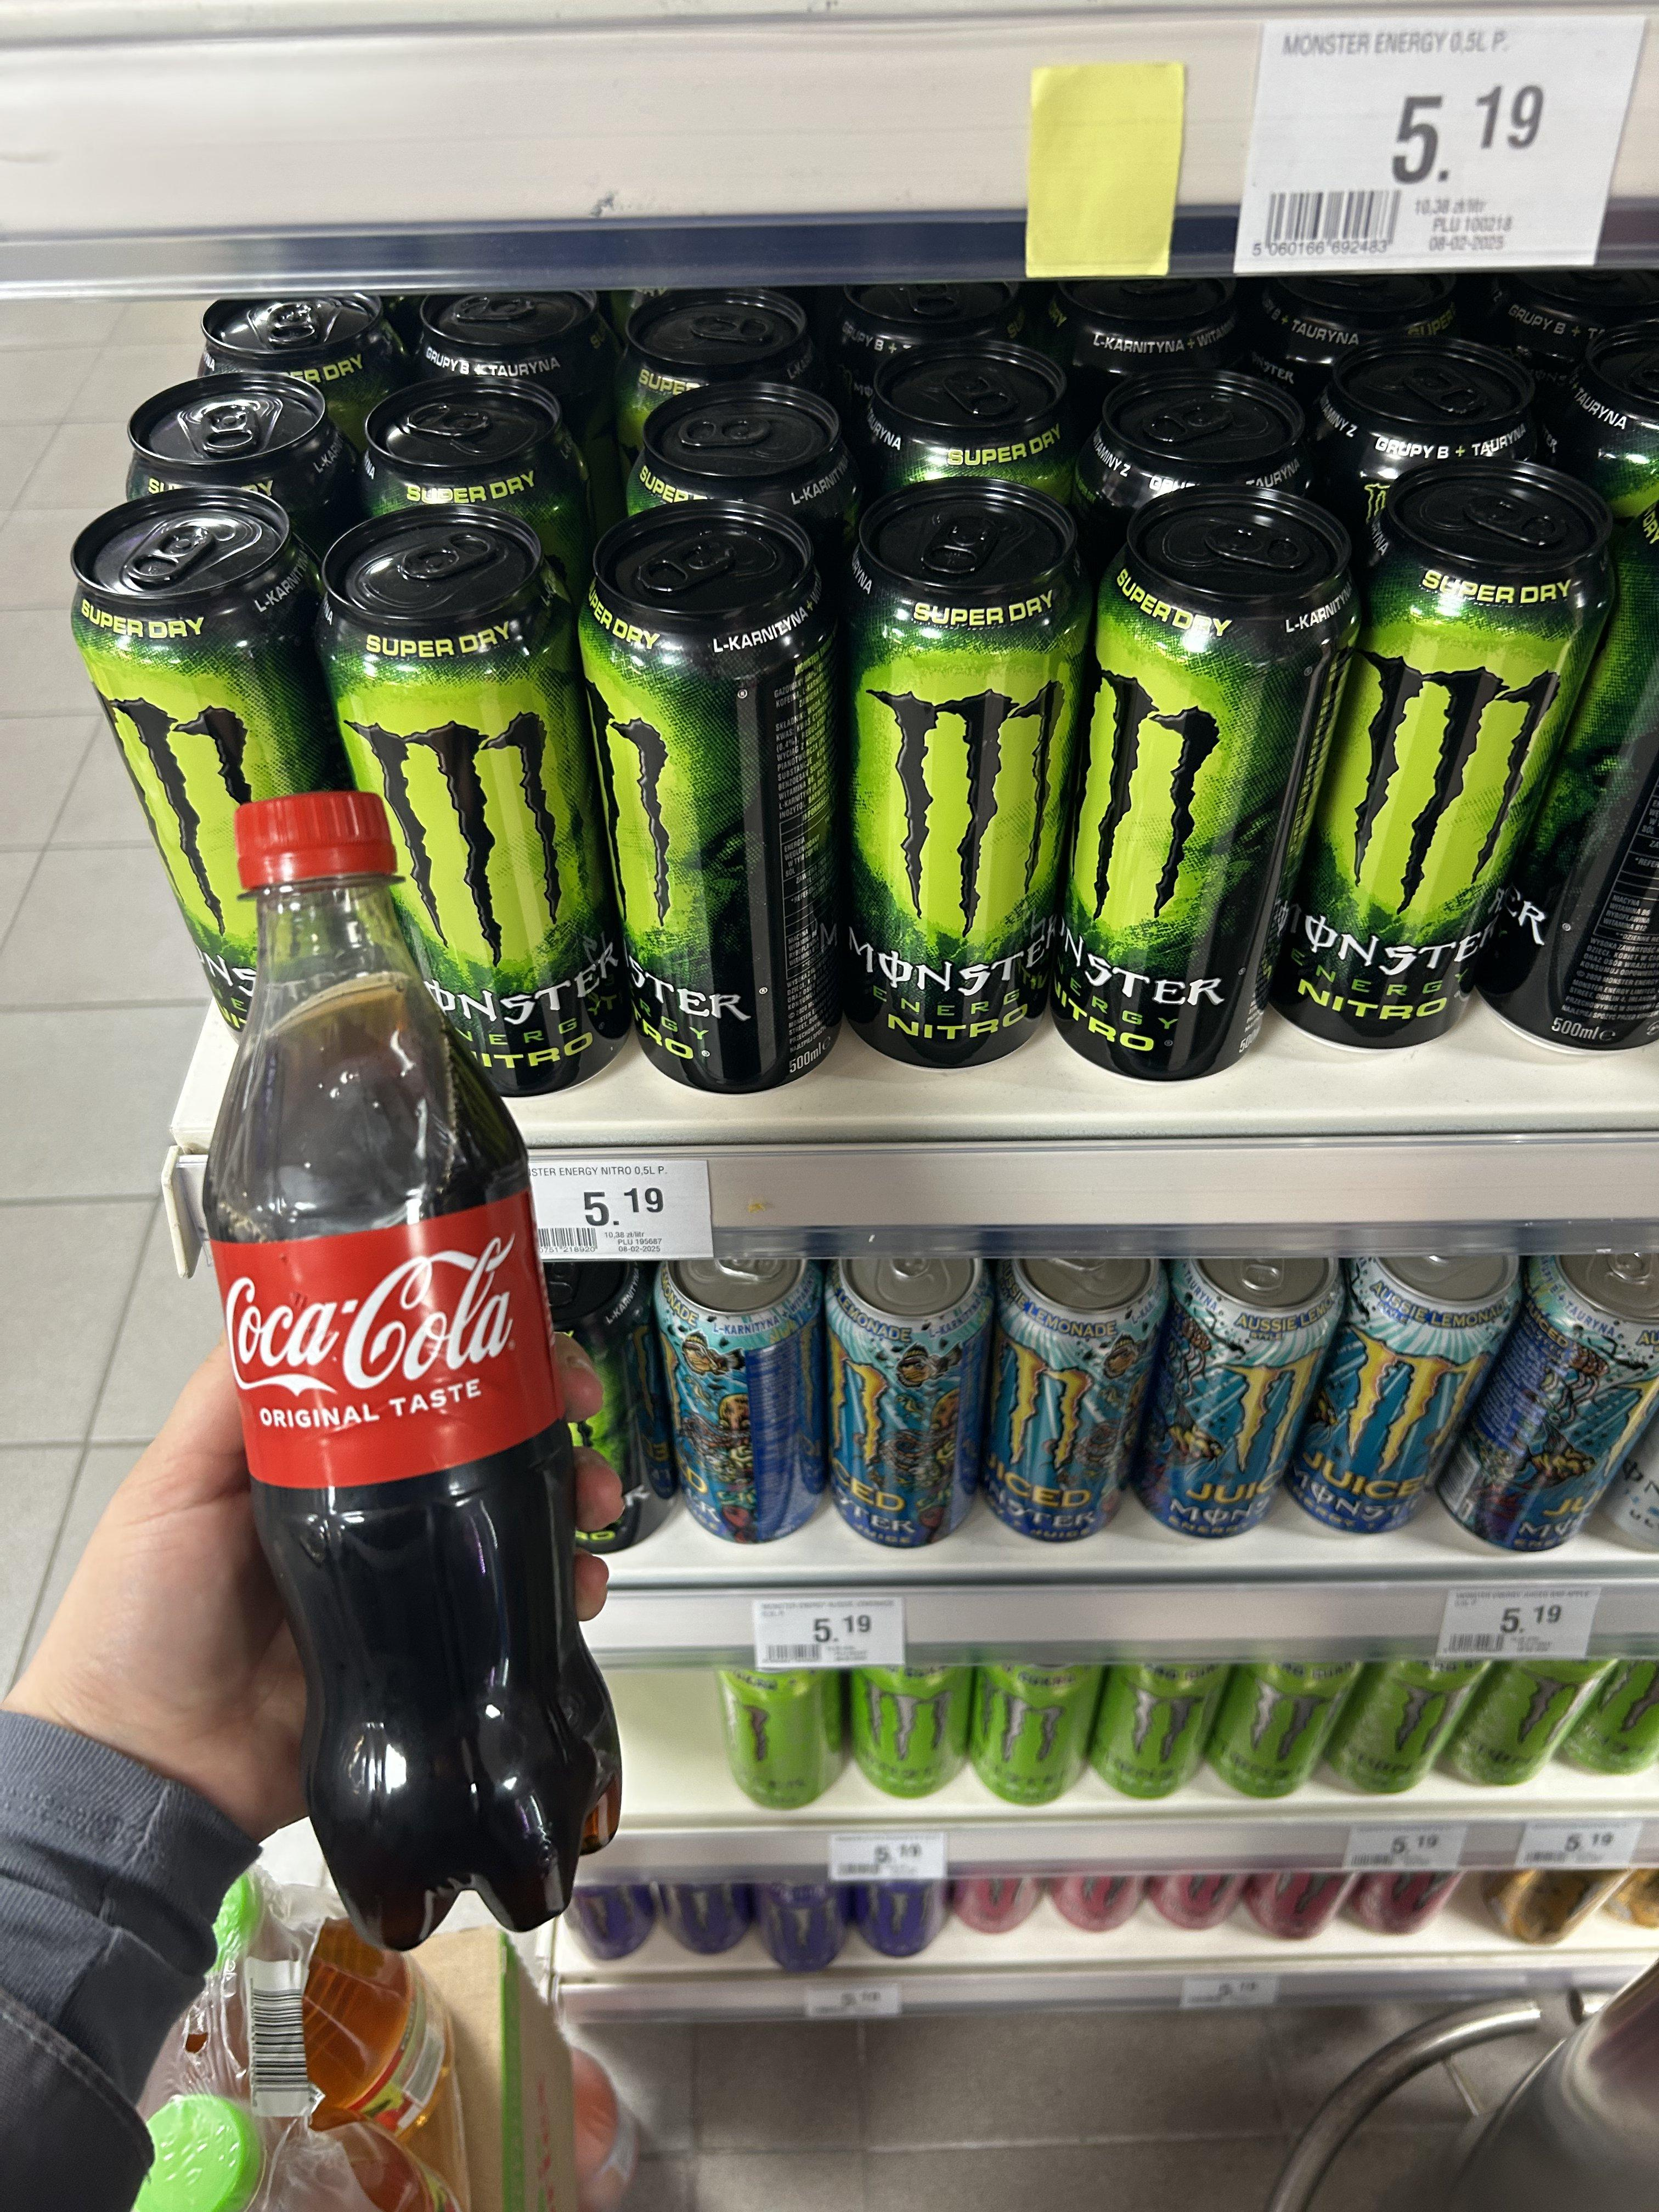Coca Cola: (188, 789, 641, 1940)
